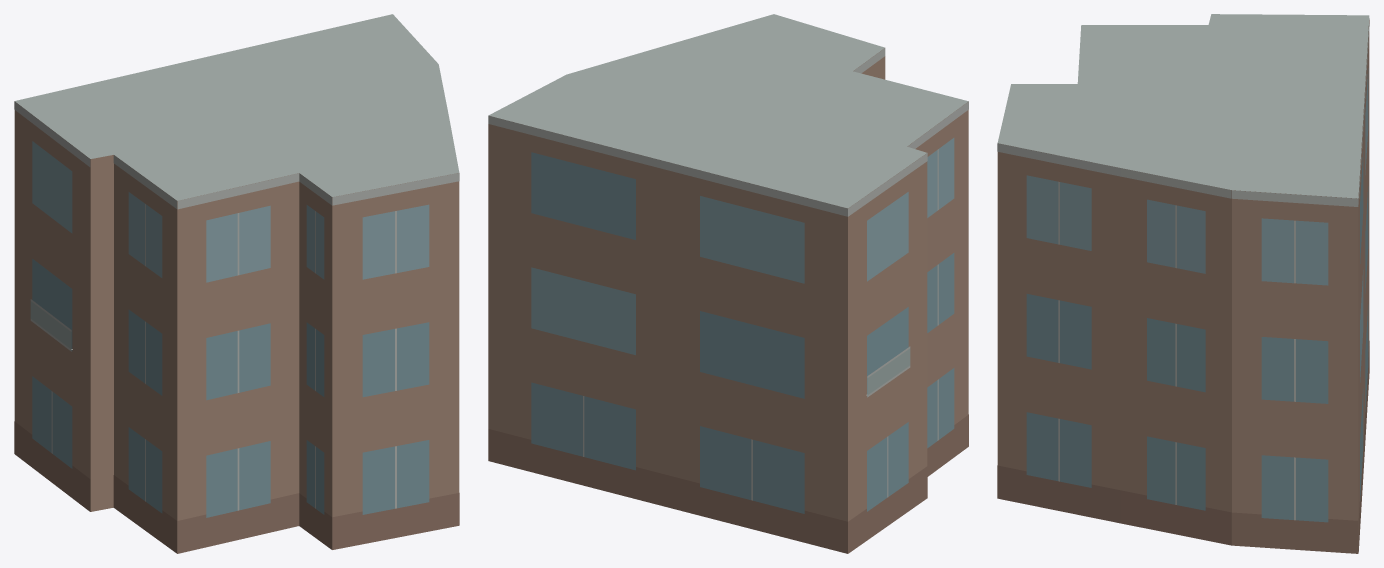
File: survey-upis-32488135.glb
3 views of the same model, side by side, from view 1: azimuth 30°, elevation 25°; view 2: azimuth 150°, elevation 25°; view 3: azimuth 270°, elevation 25° (orthographic). The views are drawn at different scales.
Visible parts, largest first — view 1: survey-upis-32488135.tmp; view 2: survey-upis-32488135.tmp; view 3: survey-upis-32488135.tmp.
Boxes of the visible parts, x1=… form: survey-upis-32488135.tmp: x1=14, y1=14, x2=459, y2=553; survey-upis-32488135.tmp: x1=488, y1=14, x2=968, y2=553; survey-upis-32488135.tmp: x1=997, y1=14, x2=1369, y2=553.
Size of the model in its own units: 11.27 by 10.1 by 9.59.
